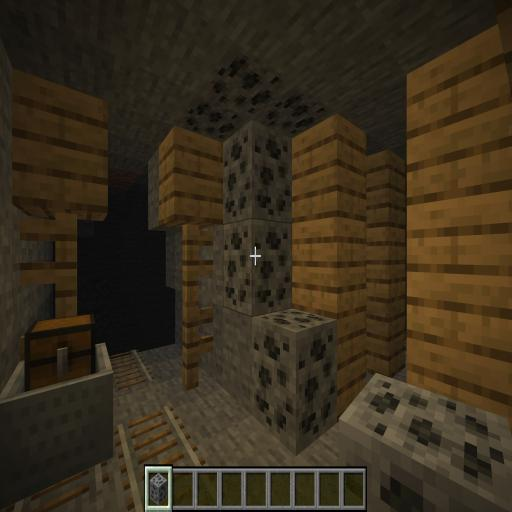coal ore: (190, 41, 340, 446)
